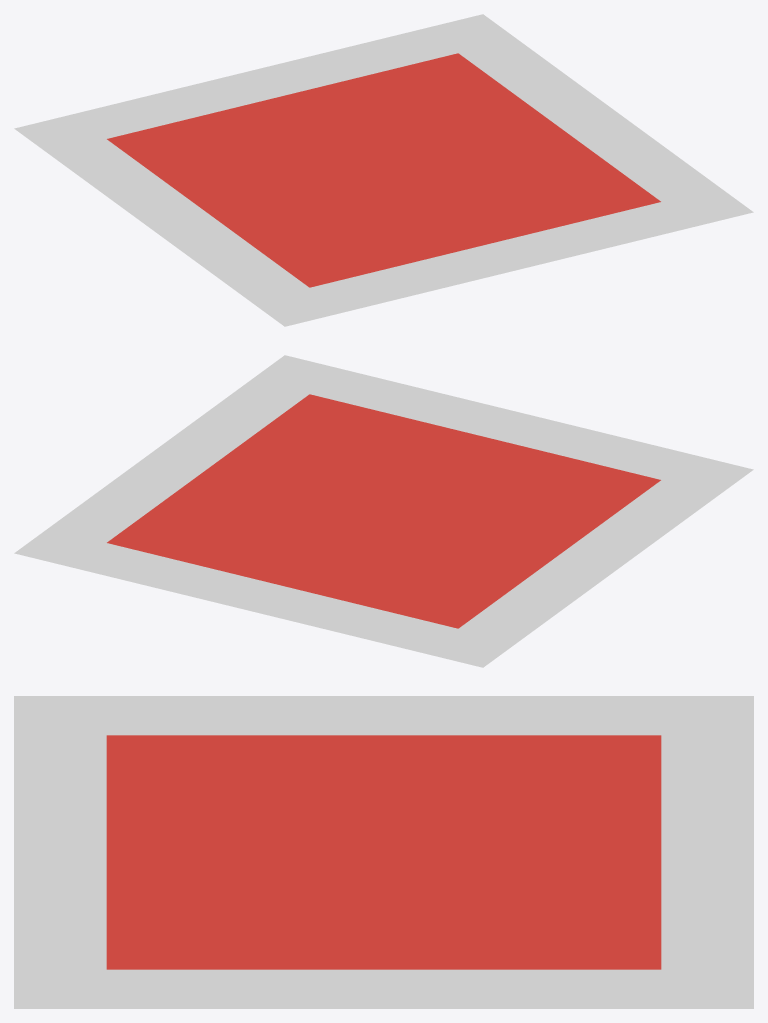
Rendered from GridCube.fbx.
The picture shows the model from 3 angles, top to bottom: view 1: azimuth 30°, elevation 25°; view 2: azimuth 150°, elevation 25°; view 3: azimuth 270°, elevation 25°; orthographic projection. The views are drawn at different scales.
Parts seen in each view (by area): view 1: Cube; view 2: Cube; view 3: Cube.
Boxes of the visible parts, x1,y1,x2,y2 form: Cube: (14,14,753,326); Cube: (14,355,753,667); Cube: (14,696,753,1008).
Bounding box in the file's own units: 200 × 0 × 200.
